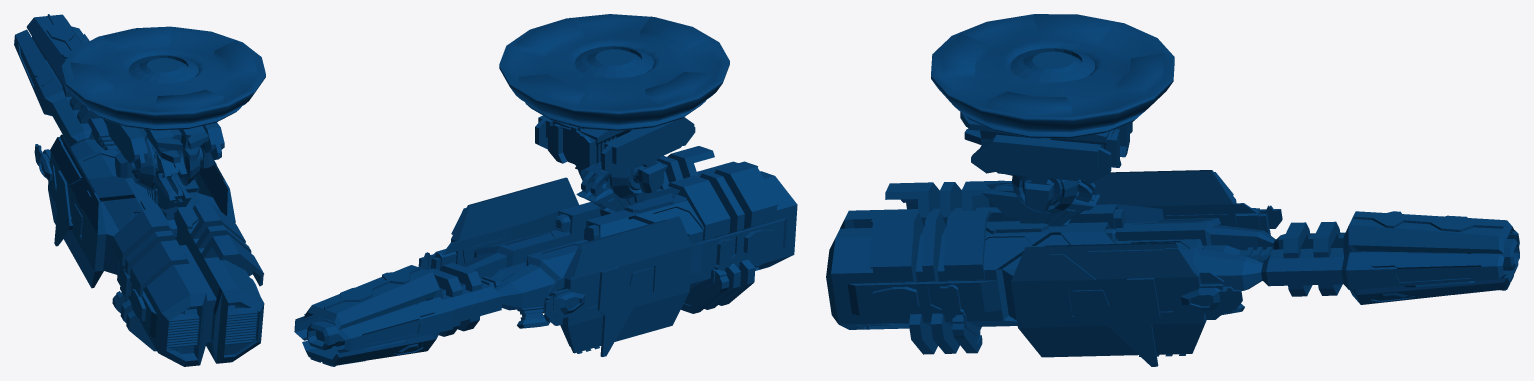
Rendered from Gun.fbx.
The picture shows the model from 3 angles, left to right: view 1: azimuth 30°, elevation 25°; view 2: azimuth 150°, elevation 25°; view 3: azimuth 270°, elevation 25°; orthographic projection. The views are drawn at different scales.
Parts seen in each view (by area): view 1: Gun; view 2: Gun; view 3: Gun.
Part boxes in pixels (bbox=[...]): Gun: bbox=[14, 14, 265, 366]; Gun: bbox=[294, 14, 797, 366]; Gun: bbox=[826, 14, 1519, 366].
Bounding box in the file's own units: 42.63 × 52.6 × 114.
